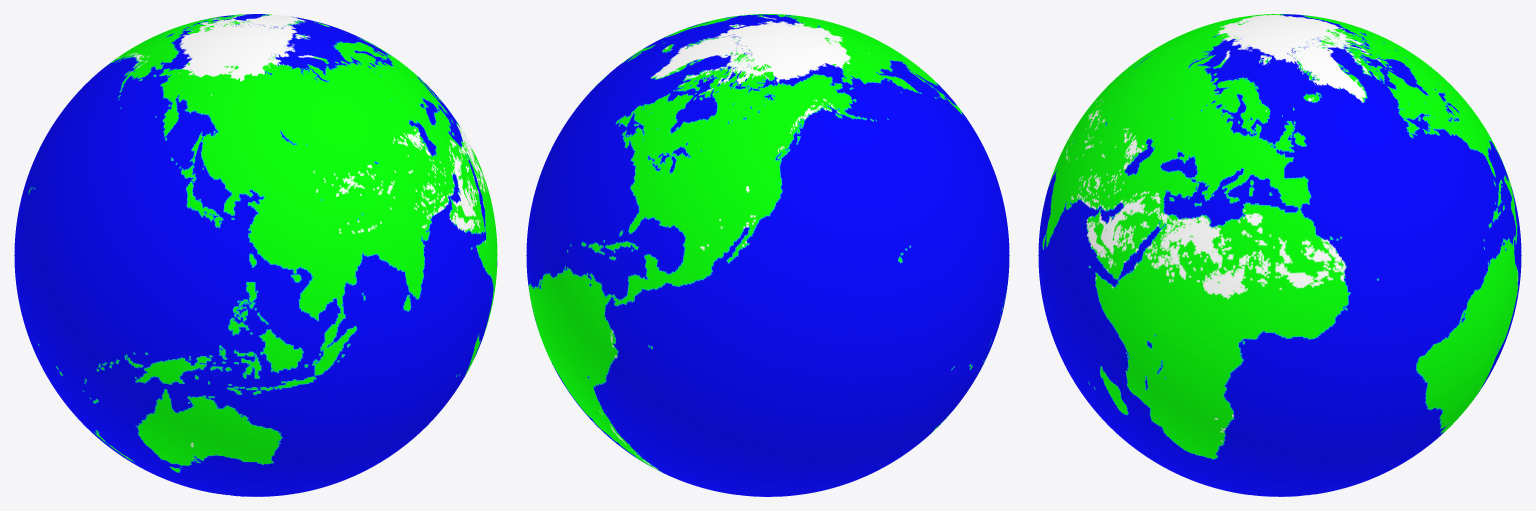
Rendered from globe_pure.glb.
3 renders of one model, left to right at view 1: azimuth 30°, elevation 25°; view 2: azimuth 150°, elevation 25°; view 3: azimuth 270°, elevation 25°, orthographic.
Parts seen in each view (by area): view 1: globe; view 2: globe; view 3: globe.
Boxes of the visible parts, box(x1,y1,x2,y2) form: globe: box(14, 14, 497, 496); globe: box(526, 14, 1009, 496); globe: box(1038, 14, 1521, 496).
Size of the model in its own units: 120 by 120 by 120.
1 material, 1 textured.
